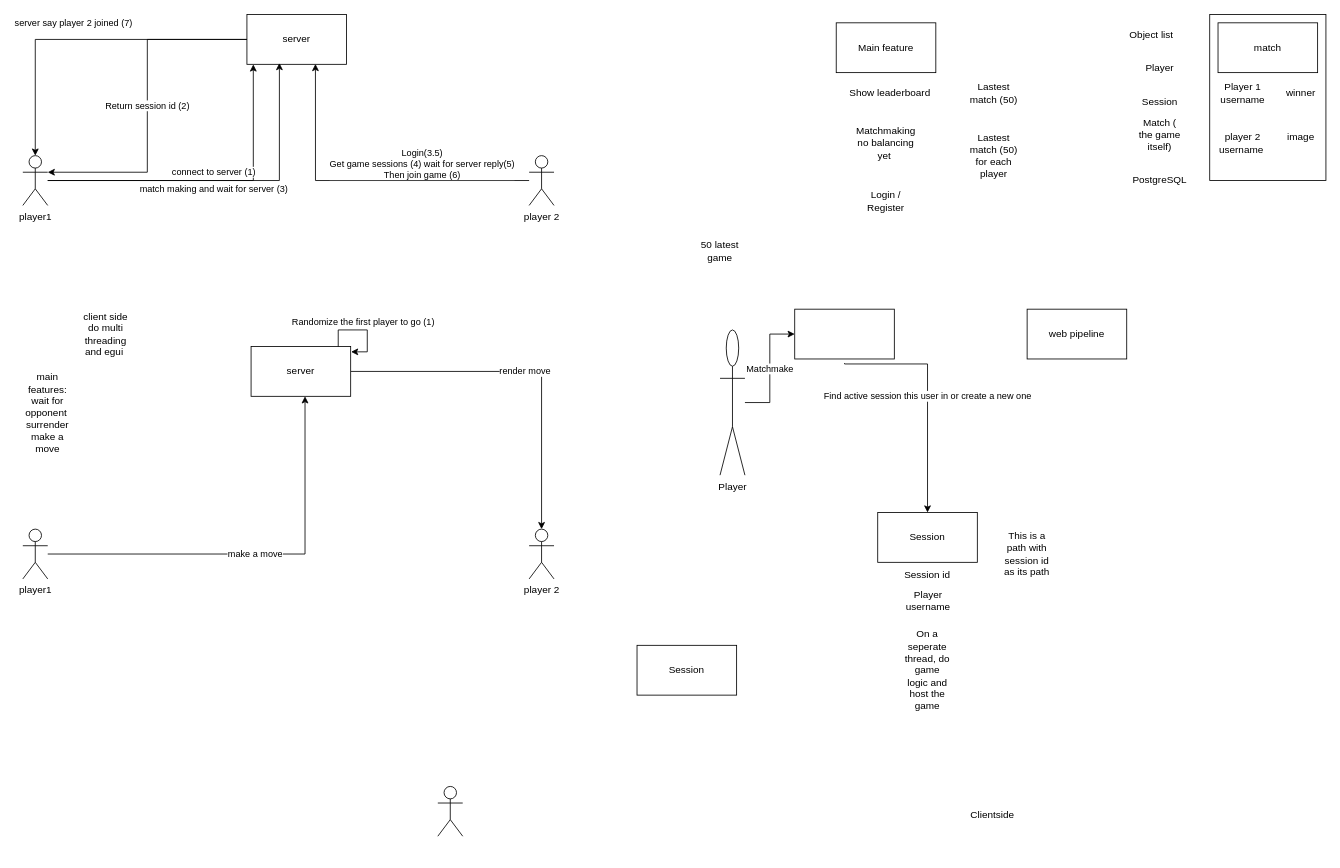
This 1340x868 diagram has some shape labels left out. Each missing label, with the centre of its shape:
"Match making pipeline" goes at point 844,333.
"Player 1" goes at point 450,811.
